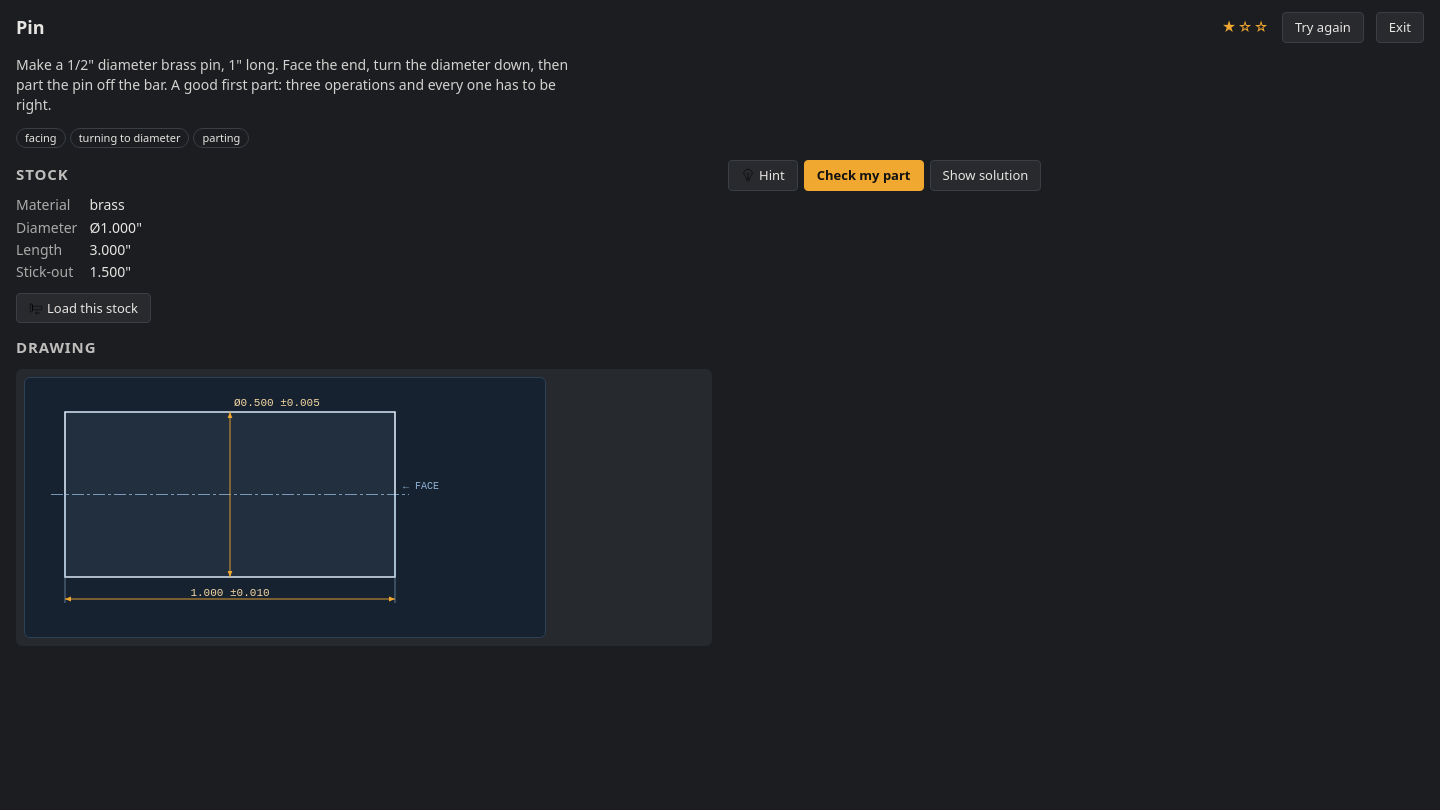
Test: ChallengePanel › hint button gives a hint, then a more specific one
This screenshot has width=1440, height=810.
Click the button with test id "challenge-hint".
click(763, 175)  # box [728,160,798,190]
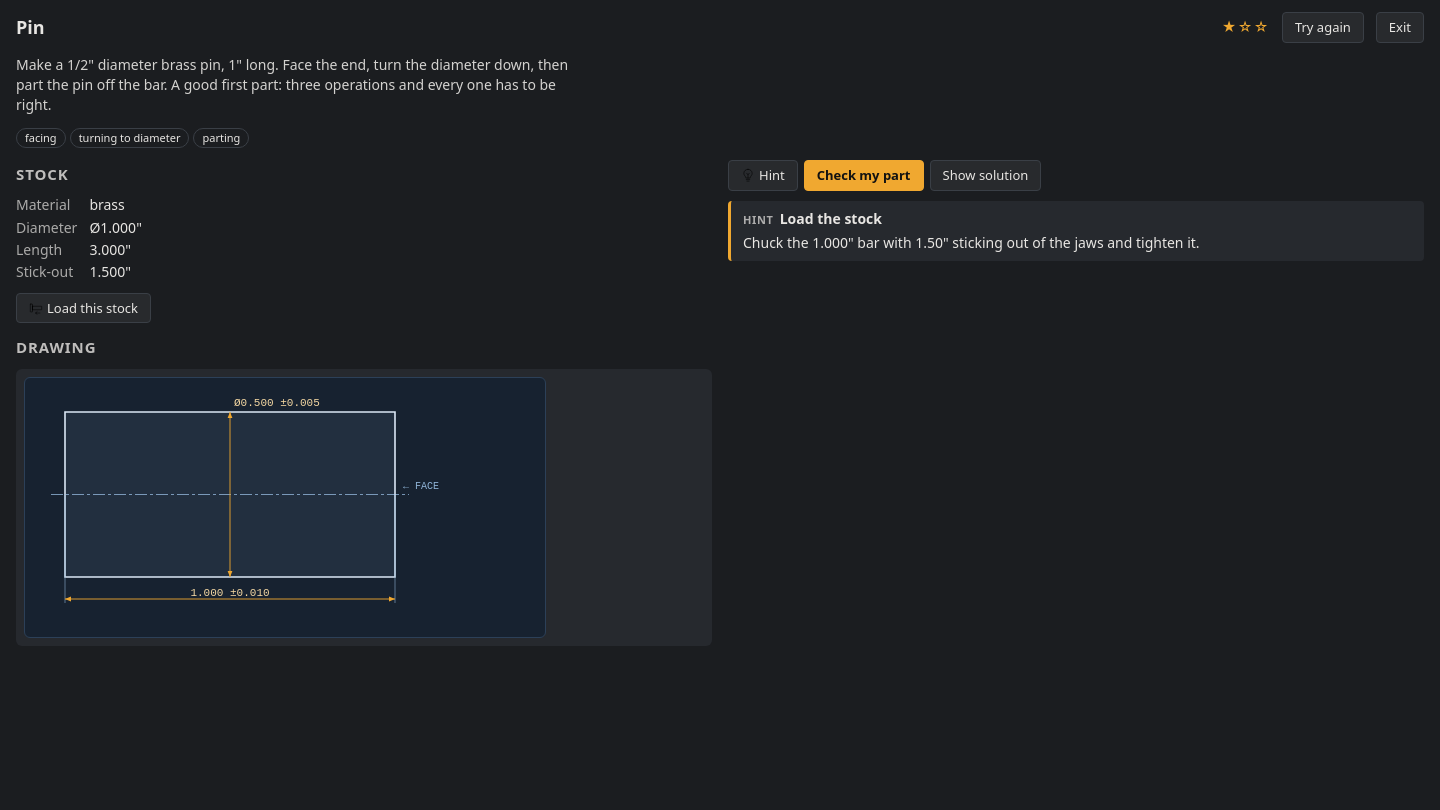
Now the text with test id "challenge-hint-level" reads "Hint", box [743,212,774,226]
Click the button with test id "challenge-hint".
click(763, 175)  # box [728,160,798,190]
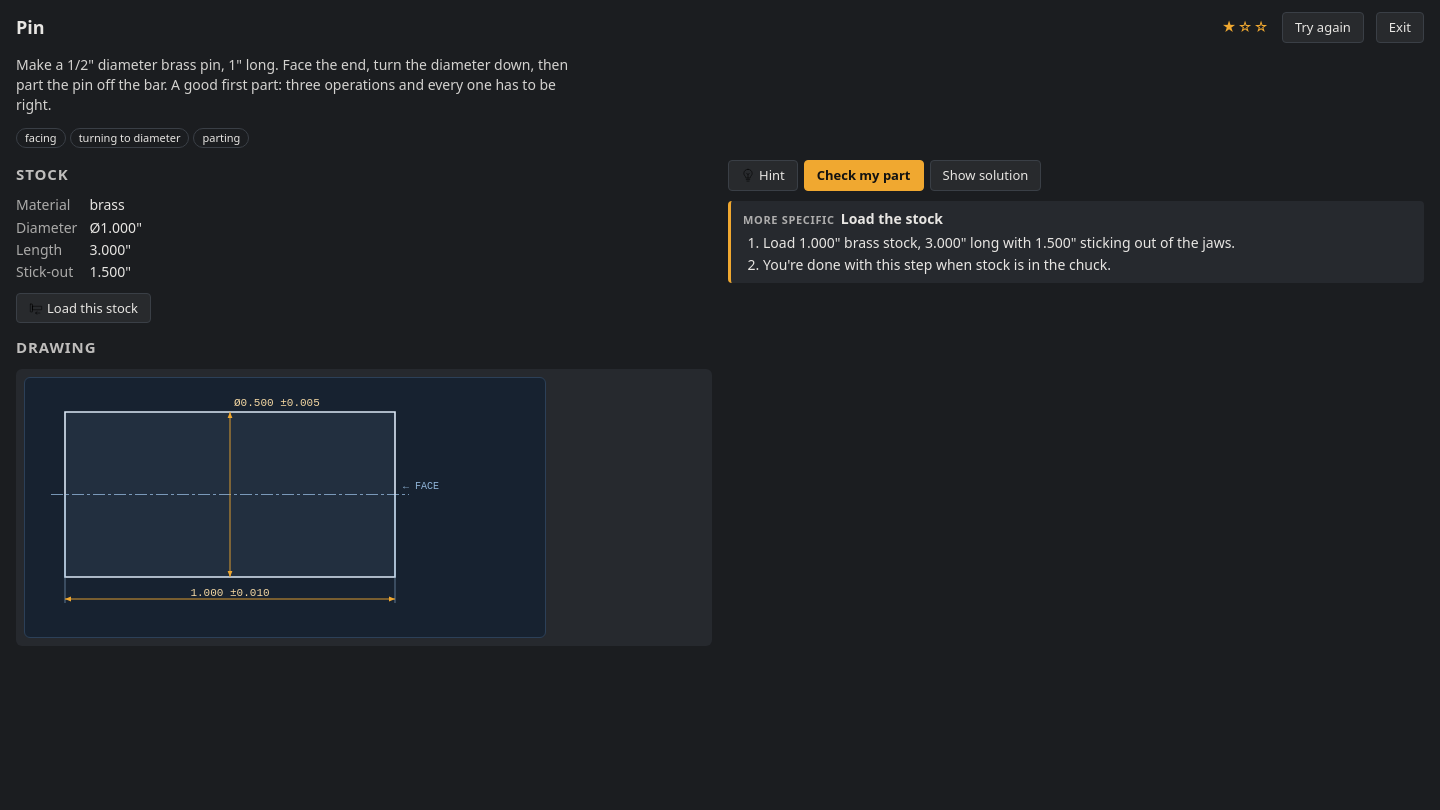
Now the text with test id "challenge-hint-level" reads "More specific", box [743,212,835,226]
